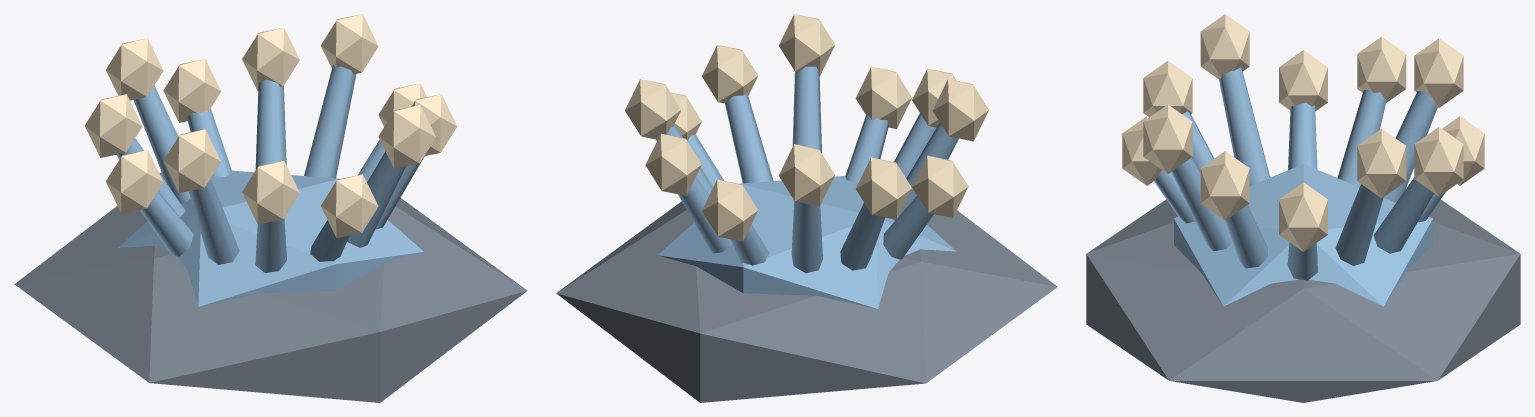
The model's file is ocean-scenery-10.glb.
The picture shows the model from 3 angles, left to right: view 1: azimuth 30°, elevation 25°; view 2: azimuth 150°, elevation 25°; view 3: azimuth 270°, elevation 25°; orthographic projection. The views are drawn at different scales.
Visible parts, largest first — view 1: Sea anemone garden; view 2: Sea anemone garden; view 3: Sea anemone garden.
Boxes of the visible parts, x1,y1,x2,y2 form: Sea anemone garden: [14, 14, 527, 402]; Sea anemone garden: [556, 14, 1057, 402]; Sea anemone garden: [1086, 14, 1520, 402].
Size of the model in its own units: 1.05 by 0.7197 by 1.05.
